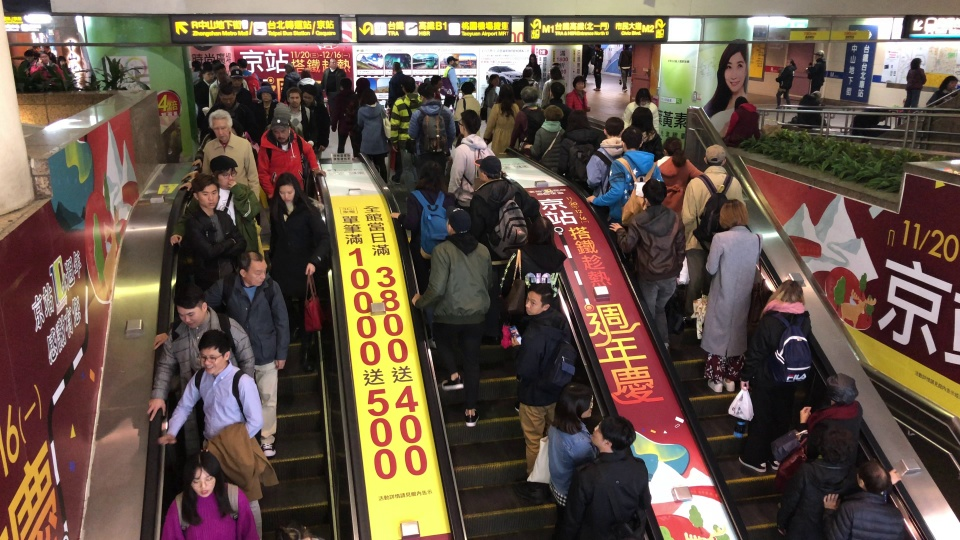person_head: (589, 413, 636, 462), (553, 381, 594, 435), (180, 449, 221, 499), (815, 424, 859, 466), (194, 326, 230, 376), (172, 288, 209, 328), (855, 458, 891, 498), (824, 372, 859, 409), (237, 247, 267, 287), (189, 172, 220, 210), (208, 154, 239, 190), (524, 282, 553, 317), (718, 198, 749, 229), (443, 202, 471, 236), (207, 108, 232, 144), (417, 157, 445, 189), (474, 154, 502, 186), (527, 213, 554, 246), (274, 171, 299, 203), (640, 178, 668, 206), (774, 279, 803, 304), (629, 105, 654, 132), (457, 108, 481, 136), (620, 124, 643, 153), (270, 114, 290, 143), (660, 135, 683, 160), (702, 143, 727, 166), (601, 116, 625, 138), (272, 100, 292, 126), (218, 81, 237, 107), (568, 108, 589, 131), (256, 84, 277, 104), (496, 83, 515, 105), (520, 85, 540, 105), (542, 104, 564, 122), (417, 81, 434, 104), (634, 86, 651, 107), (300, 84, 317, 104), (938, 75, 958, 91), (400, 75, 415, 95), (356, 75, 370, 96), (359, 89, 377, 105), (549, 81, 565, 99), (228, 69, 243, 88), (459, 79, 475, 96), (733, 95, 749, 112), (214, 63, 227, 82), (338, 76, 353, 91), (202, 65, 214, 83), (548, 65, 562, 80), (430, 75, 443, 89), (446, 55, 459, 69), (487, 73, 500, 87), (37, 50, 49, 65), (228, 62, 240, 77), (573, 75, 585, 90), (236, 57, 248, 71), (522, 66, 534, 80), (908, 57, 922, 69), (56, 53, 67, 68), (23, 49, 35, 62), (283, 62, 295, 75), (300, 68, 312, 80), (190, 59, 201, 71), (327, 57, 339, 68), (809, 89, 821, 100), (391, 61, 401, 74), (813, 49, 825, 59), (783, 57, 793, 67), (528, 53, 537, 64), (621, 43, 630, 50), (594, 43, 601, 51)
person_vbox: (153, 249, 289, 457), (157, 327, 279, 539), (149, 284, 255, 454), (413, 204, 493, 427), (690, 198, 768, 393), (509, 284, 577, 504), (738, 279, 811, 474), (606, 178, 685, 356), (498, 215, 567, 413), (777, 425, 901, 535), (268, 171, 332, 373), (389, 159, 455, 348), (681, 144, 746, 324), (562, 413, 652, 540), (468, 154, 541, 298), (170, 154, 261, 262), (525, 381, 599, 513), (181, 109, 261, 230), (159, 450, 261, 540), (585, 126, 665, 231), (183, 174, 247, 287), (822, 460, 905, 540), (255, 115, 327, 207), (799, 372, 862, 466), (447, 108, 495, 214), (408, 82, 456, 180), (652, 135, 705, 215), (389, 75, 422, 201), (555, 109, 600, 195), (355, 88, 392, 184), (583, 116, 625, 196), (199, 81, 255, 139), (522, 104, 565, 174), (343, 77, 379, 156), (330, 77, 363, 157), (483, 83, 519, 153), (508, 87, 546, 152), (620, 106, 664, 162), (298, 84, 330, 159), (451, 80, 482, 147), (620, 86, 659, 137), (722, 95, 761, 146), (248, 82, 279, 146), (318, 56, 346, 126), (193, 65, 217, 146), (439, 55, 462, 138), (263, 101, 303, 140), (899, 57, 926, 114), (541, 81, 572, 130), (28, 50, 65, 85), (772, 58, 797, 109), (236, 56, 263, 102), (796, 90, 827, 128), (226, 67, 252, 110), (514, 66, 539, 110), (540, 66, 566, 107), (478, 74, 499, 124), (295, 68, 324, 104), (925, 76, 958, 107), (208, 63, 230, 109), (386, 61, 407, 109), (565, 75, 590, 115), (280, 62, 301, 106), (806, 50, 826, 95), (617, 42, 633, 93), (589, 43, 603, 91), (227, 62, 250, 91), (18, 49, 37, 81), (523, 53, 542, 85), (427, 74, 442, 101), (189, 59, 202, 84)
